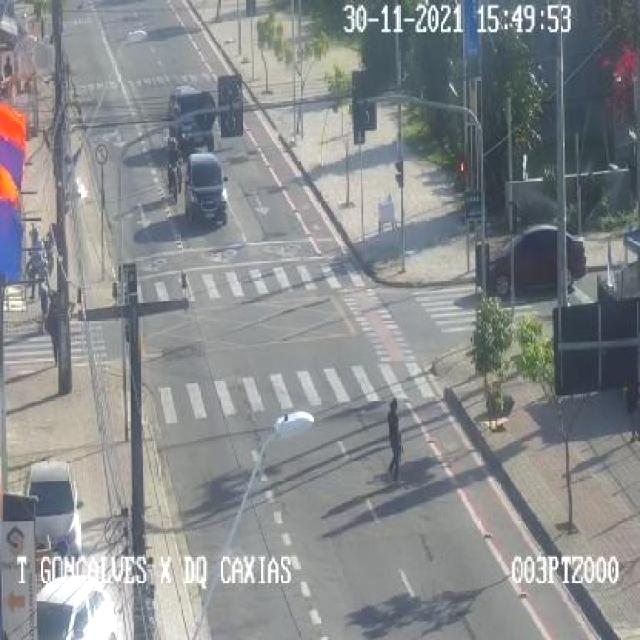Car: (19, 571, 139, 640), (20, 461, 88, 558), (155, 79, 218, 159), (181, 156, 233, 230)
